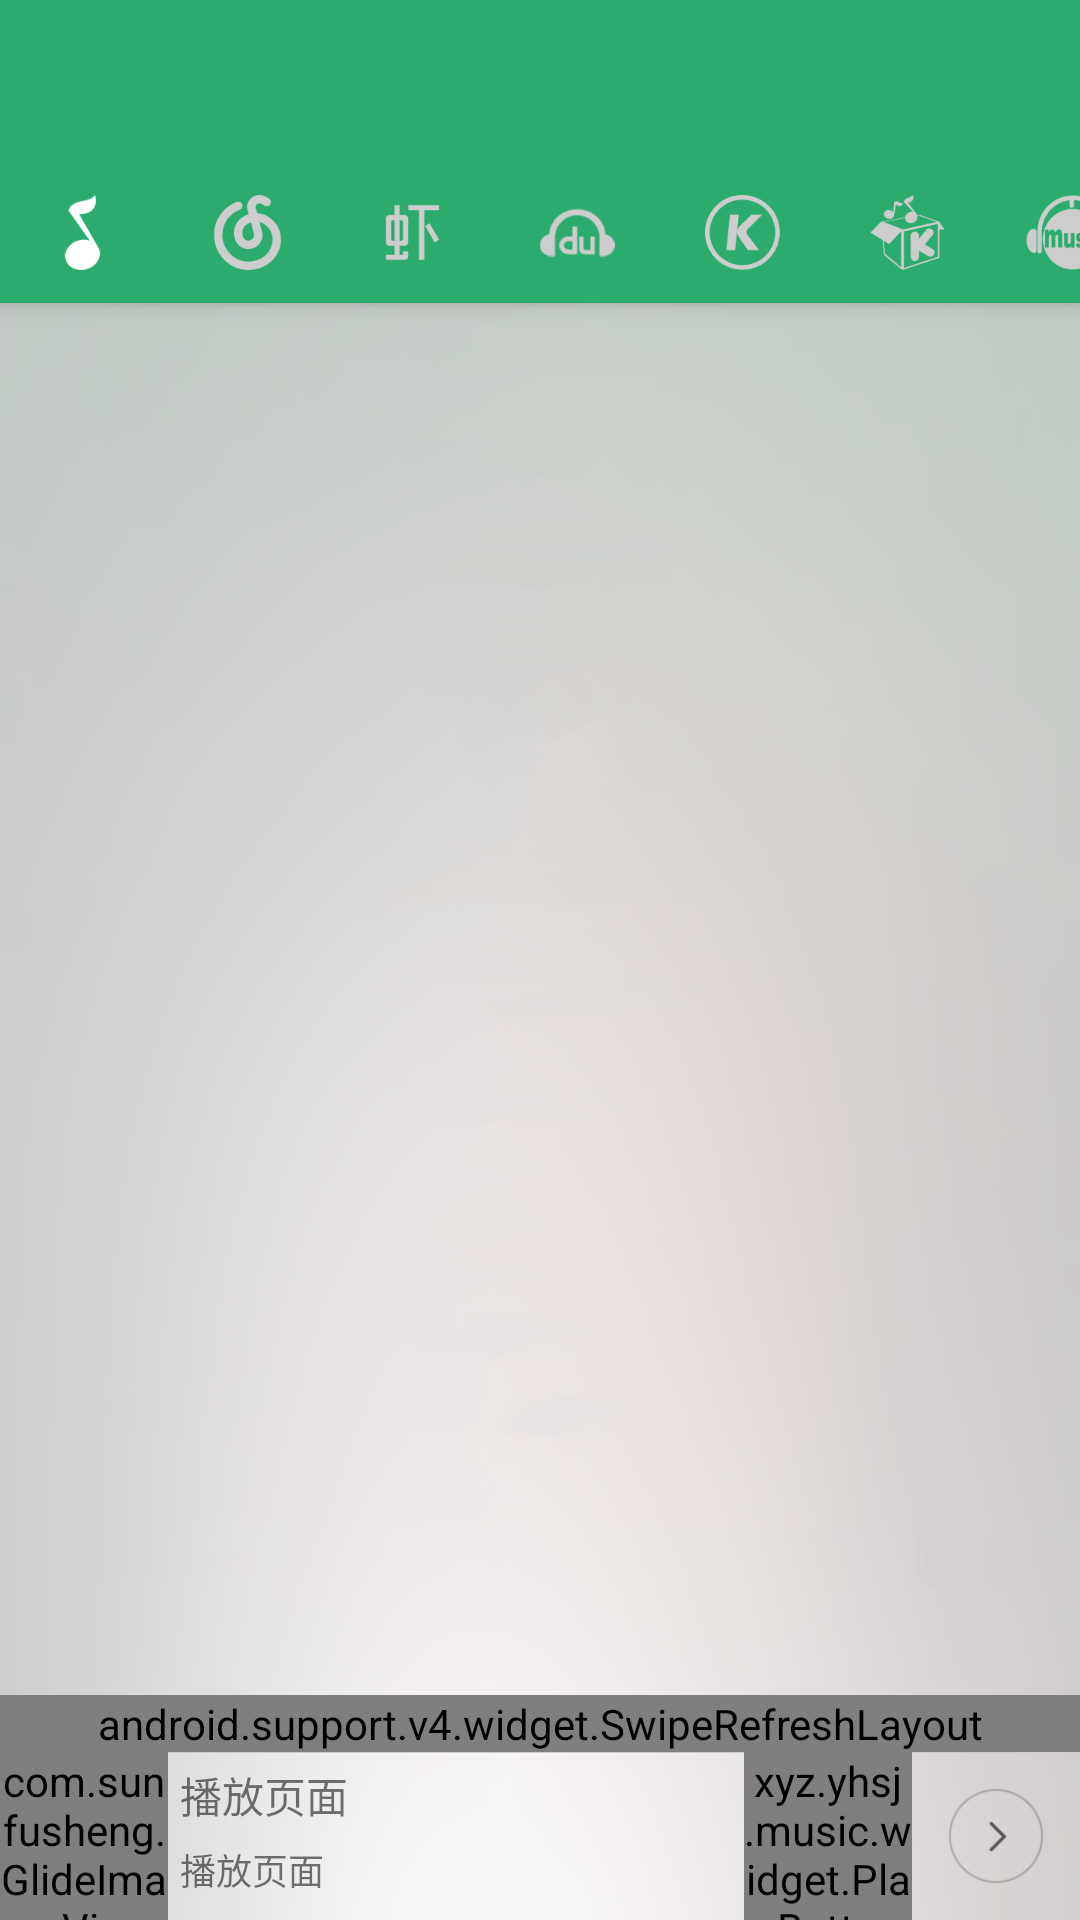

Where to tap for icons on this 1080×1920 app screen, as [x,y]:
next: [996,1836]
